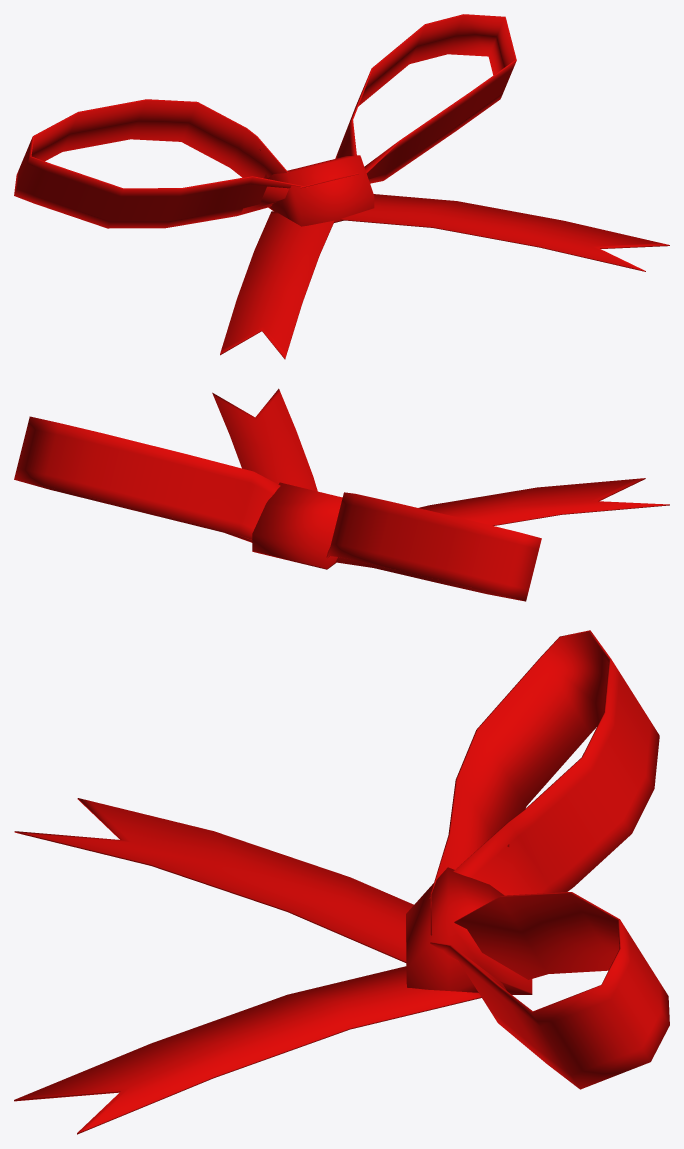
The model's file is BowTie.fbx.
3 views of the same model, one above another, from view 1: azimuth 30°, elevation 25°; view 2: azimuth 150°, elevation 25°; view 3: azimuth 270°, elevation 25° (orthographic). The views are drawn at different scales.
Visible parts, largest first — view 1: Gift box 3; view 2: Gift box 3; view 3: Gift box 3.
Boxes of the visible parts, x1,y1,x2,y2 form: Gift box 3: (14, 14, 669, 359); Gift box 3: (14, 388, 669, 601); Gift box 3: (14, 630, 669, 1134).
Bounding box in the file's own units: 18.32 × 3.9 × 13.91.
